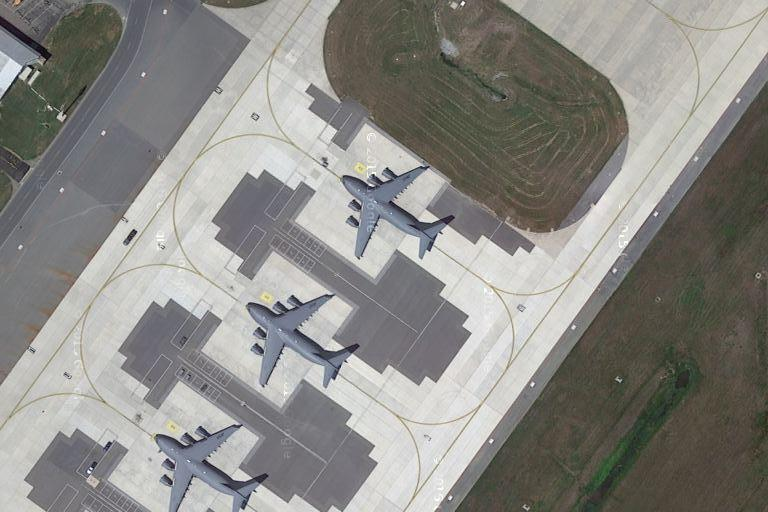C-17: (244, 289, 360, 392), (340, 161, 453, 263), (154, 417, 271, 512)
